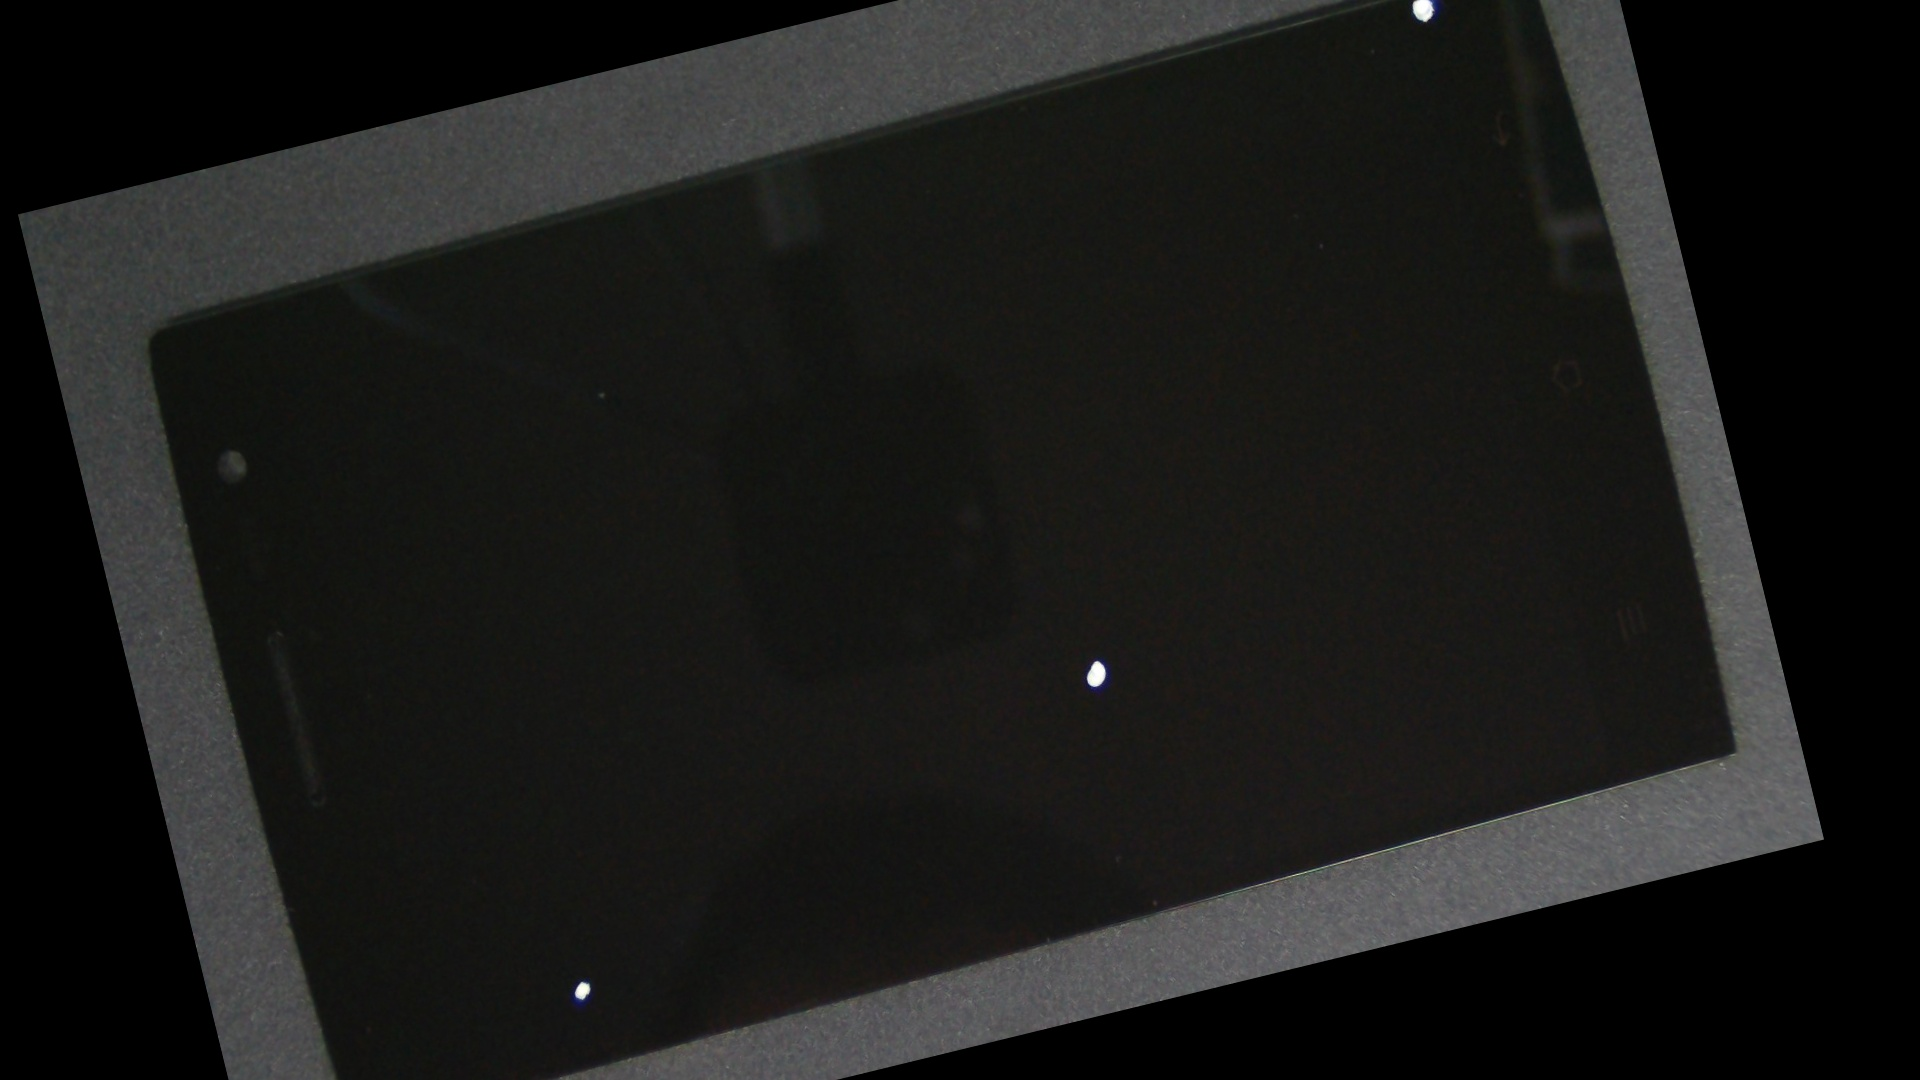oil: (556, 215, 1633, 1080), (299, 510, 790, 1080), (719, 0, 1622, 222)
